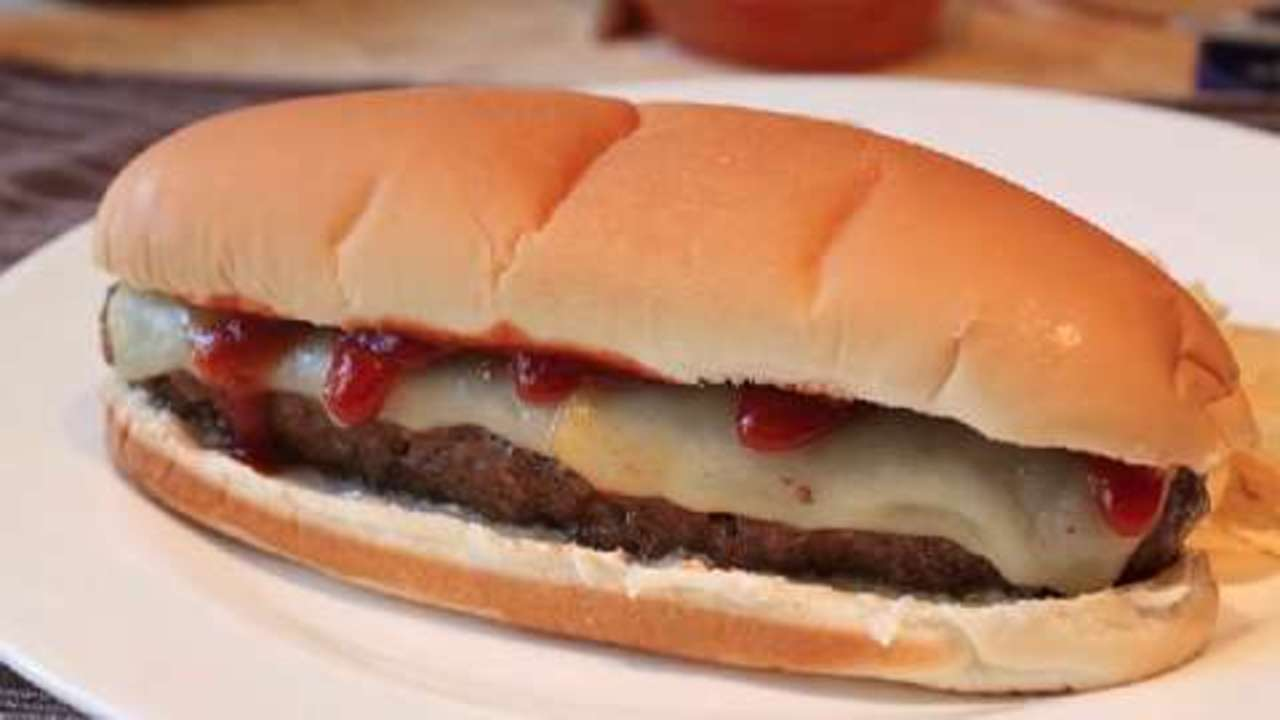hamburger_buns: (110, 81, 1263, 469)
